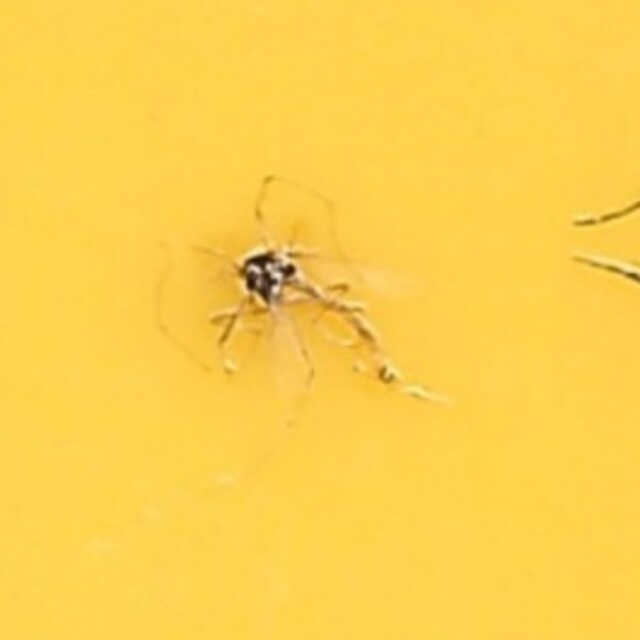Nematocera: (242, 240, 398, 400)
